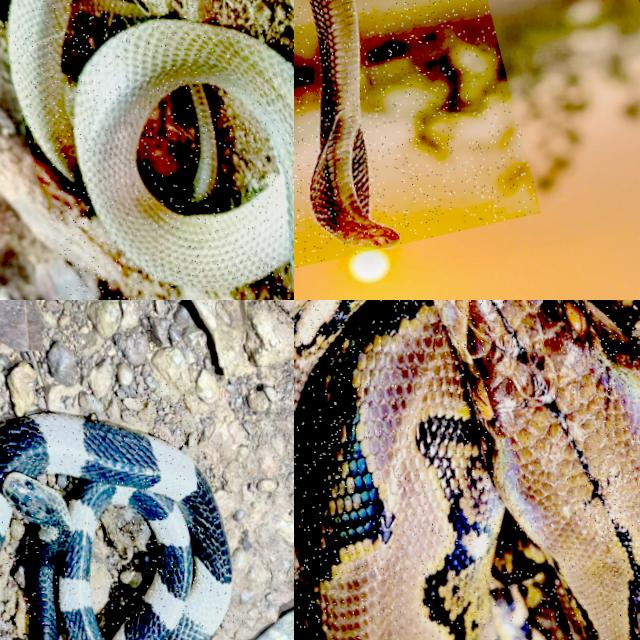Bungarus candidus: (0, 412, 231, 639)
Malayopython reticulatus: (294, 300, 639, 639)
Naja siamensis: (8, 0, 293, 289)
Ophiophagus hannah: (308, 0, 398, 247)
